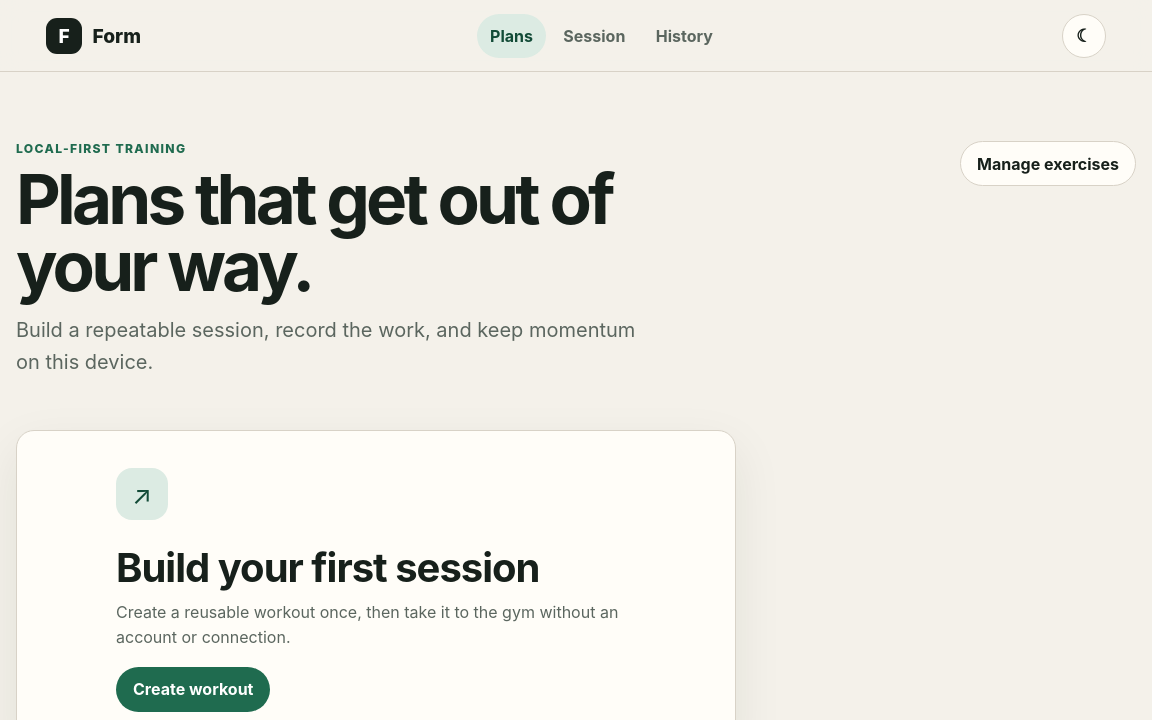
Test: Custom Exercises — US3: Rename a Custom Exercise › C8: shows error when renaming to an existing predefined exercise name
Click the button "Manage exercises" at {"x": 1048, "y": 164}, box [960,141,1136,186]
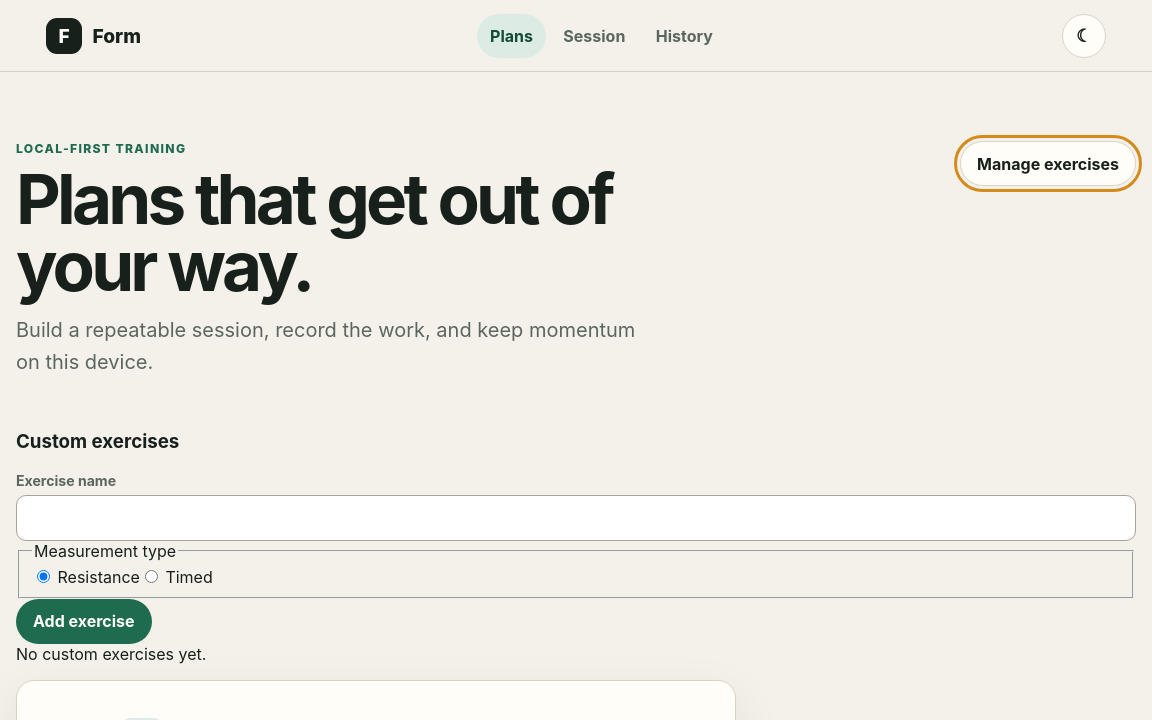
Type "MyLift" into the field labelled "Exercise name" at {"x": 576, "y": 518}, box [16,495,1136,541]
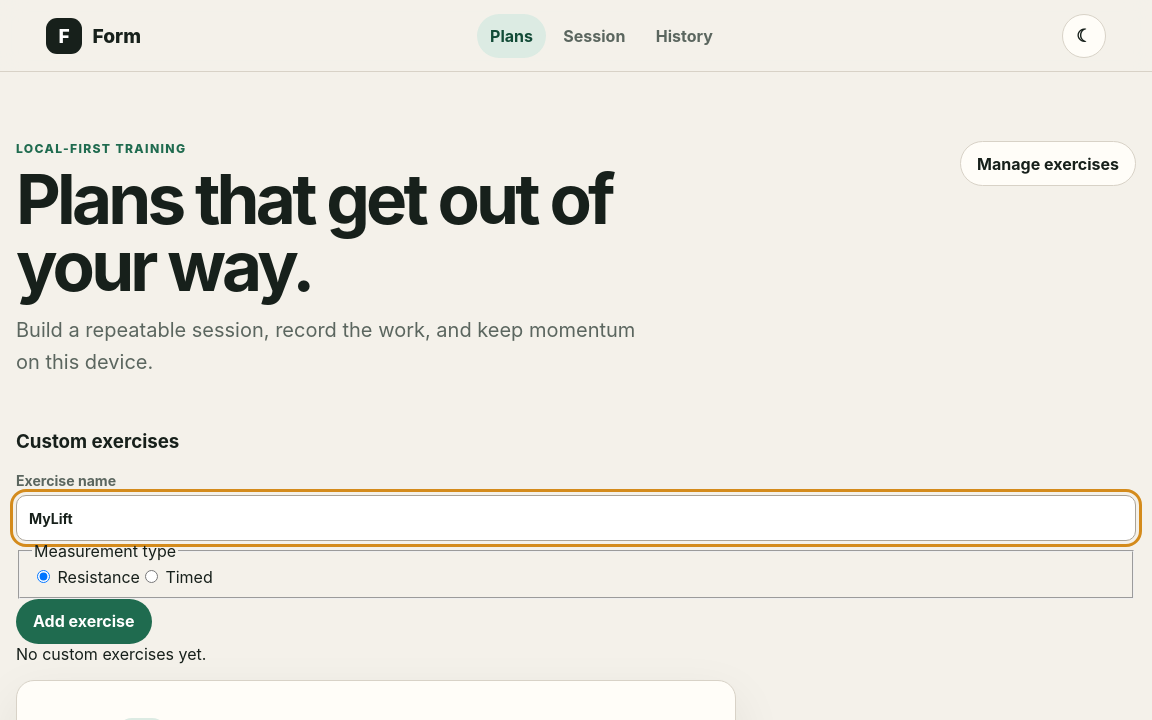
Click the button "Add exercise" at {"x": 84, "y": 621}, box [16,599,152,644]
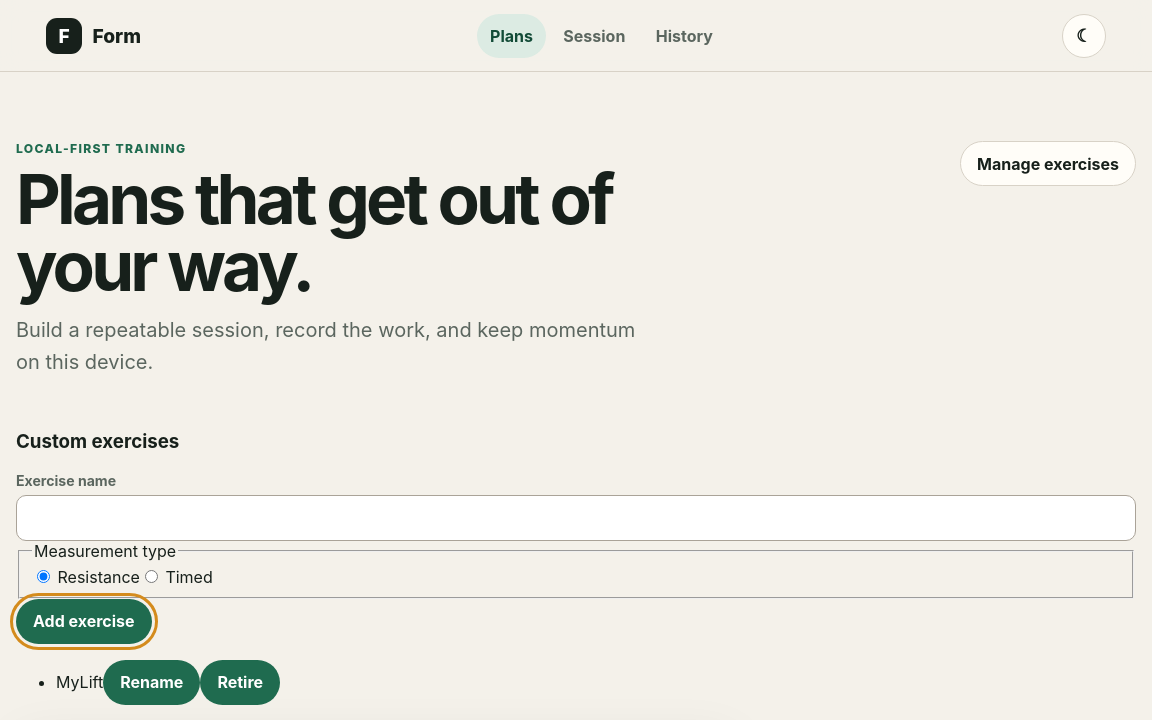
expect the text "MyLift" is shown: met, box [56,672,103,692]
Click the button with aria-label "rename mylift" at {"x": 152, "y": 682}, box [103,660,200,705]
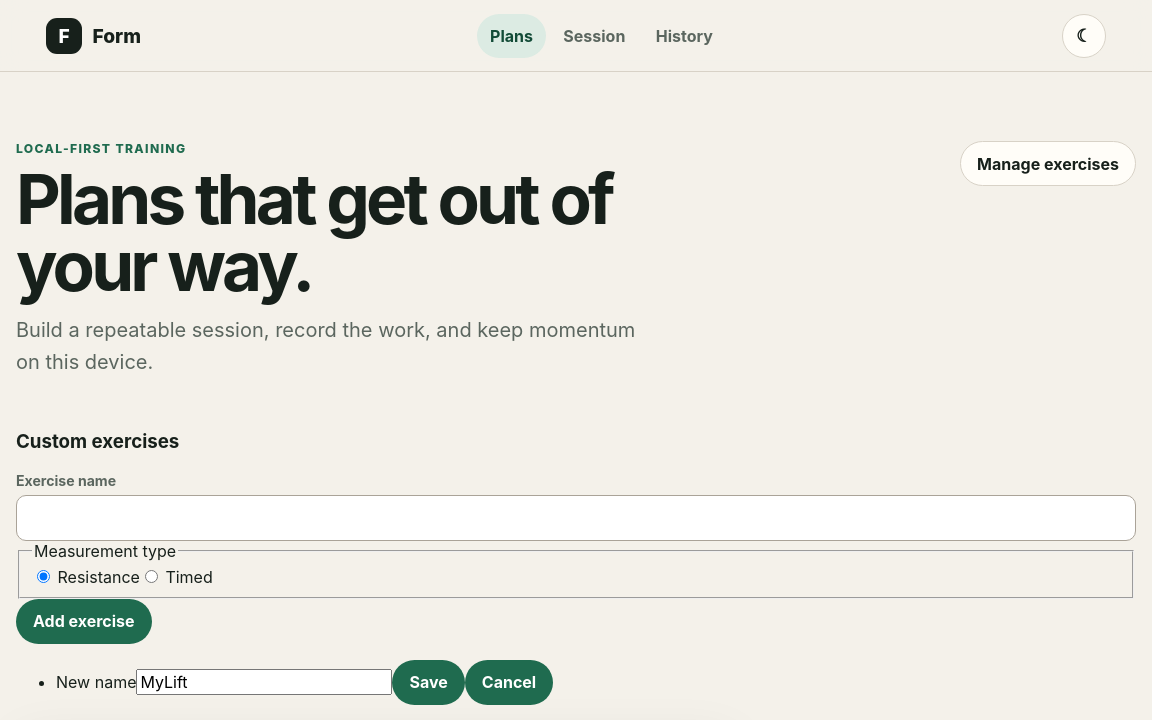
Replace the text in the field labelled "New name" with "Bench press" at {"x": 264, "y": 682}, box [136,669,392,695]
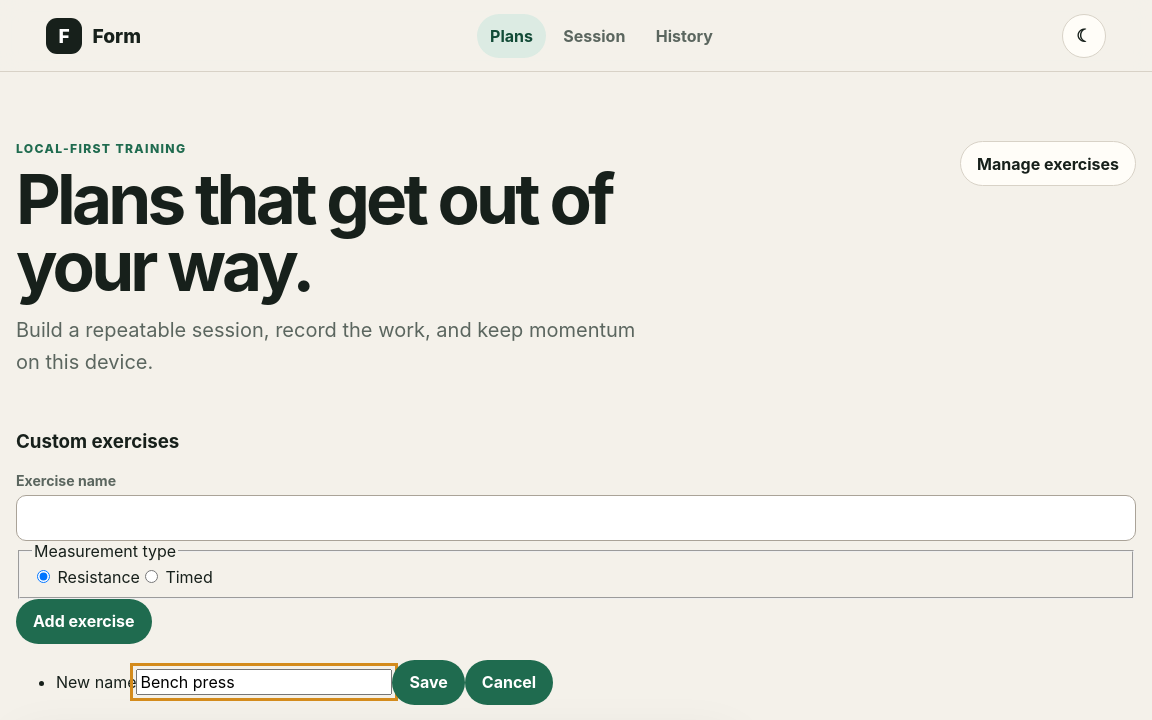
Click the button "Save" at {"x": 429, "y": 682}, box [392,660,465,705]
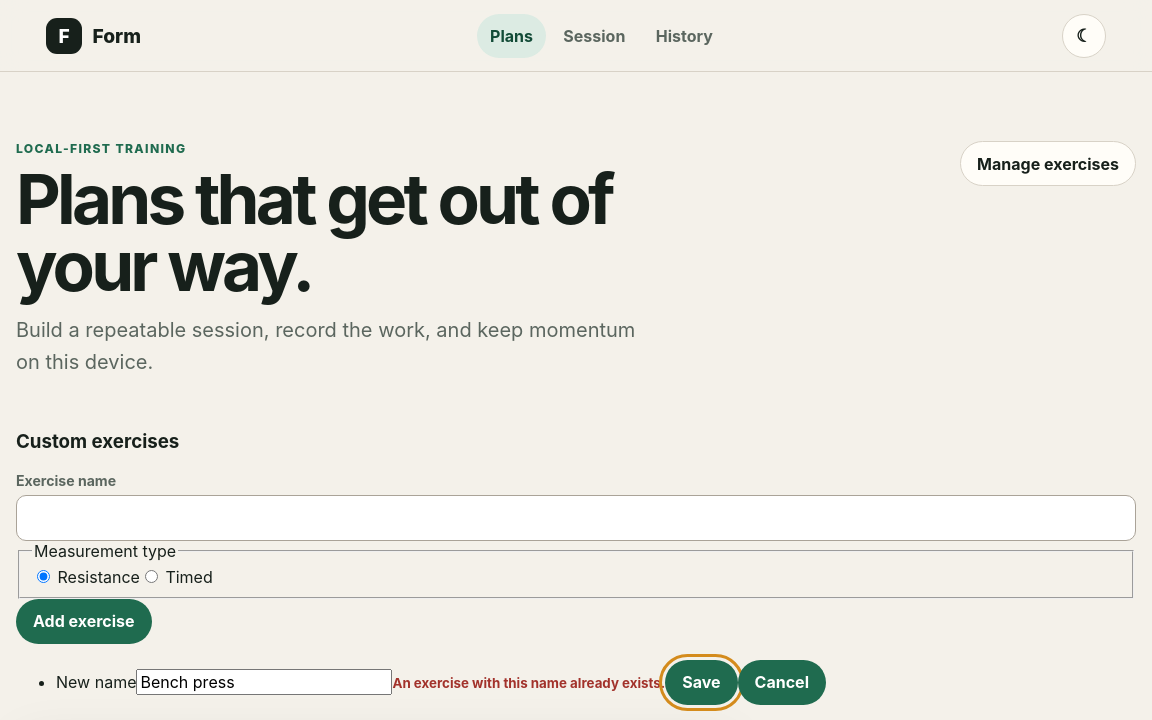
expect the text "An exercise with this name already exists." is shown: met, box [392,675,665,691]
